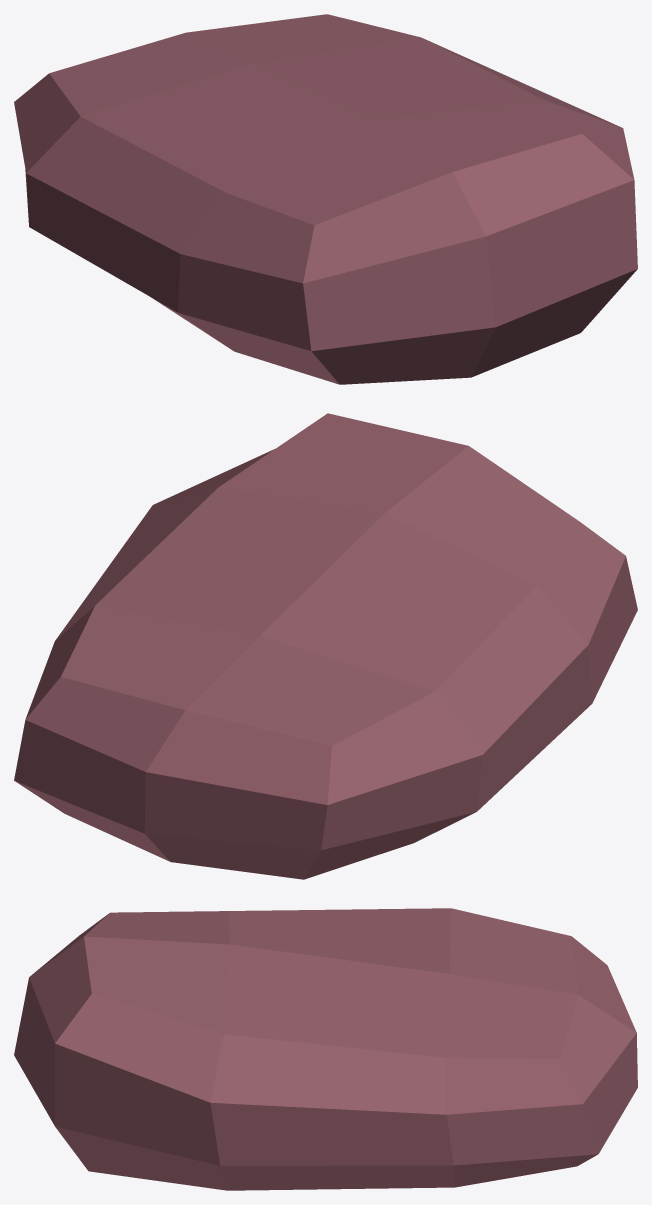
Rendered from Rock_08_Lod1.fbx.
3 renders of one model, top to bottom at view 1: azimuth 30°, elevation 25°; view 2: azimuth 150°, elevation 25°; view 3: azimuth 270°, elevation 25°, orthographic. The views are drawn at different scales.
Visible parts, largest first — view 1: Rock_08_Lod1; view 2: Rock_08_Lod1; view 3: Rock_08_Lod1.
Part boxes in pixels (x1,y1,x2,y2): Rock_08_Lod1: (14, 14, 637, 384); Rock_08_Lod1: (14, 413, 637, 879); Rock_08_Lod1: (14, 908, 637, 1190).
Size of the model in its own units: 51.09 by 23.04 by 66.08.
